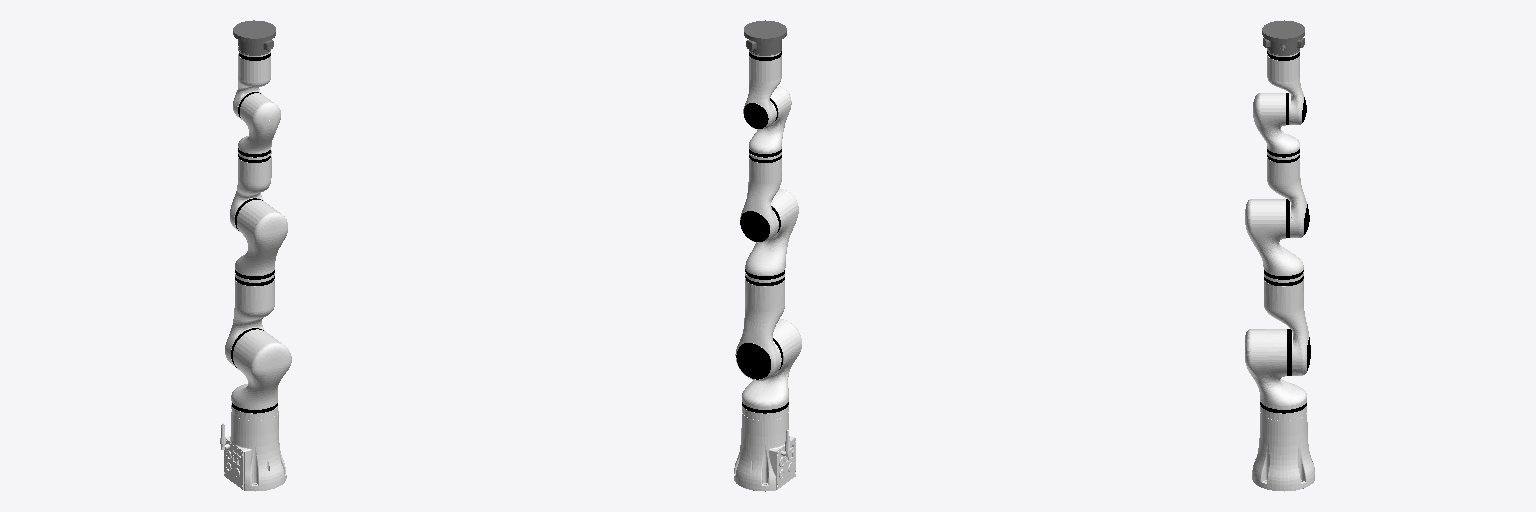
URDF robot description (RM75B_with_Gripper):
<?xml version='1.0' encoding='utf-8'?>
<robot name="RM75B_with_Gripper">

  <link name="base_link">
    <inertial>
      <origin xyz="0.00049987 5.2709E-05 0.060019" rpy="0 0 0" />
      <mass value="1.862" />
      <inertia ixx="0.0017232" ixy="-3.1058E-06" ixz="-3.7924E-05" iyy="0.0017051" iyz="1.3691E-06" izz="0.00090158" />
    </inertial>
    <visual>
      <geometry><mesh filename="../meshes/base_link.dae" /></geometry>
      <material name=""><color rgba="1 1 1 1" /></material>
    </visual>
    <collision>
      <geometry><mesh filename="../meshes/base_link.dae" /></geometry>
    </collision>
  </link>

  <link name="link_1">
    <inertial>
      <origin rpy="0 0 0" xyz="-0.002 0.02692 -0.01332"/>
      <mass value="2.16"/>
      <inertia ixx="0.00539427" ixy="1.095E-05" ixz="1.635E-06" iyy="0.0048979" iyz="0.000793" izz="0.00311573"/>
    </inertial>
    <visual><geometry><mesh filename="../meshes/link_1.dae" /></geometry></visual>
    <collision>
      <geometry><mesh filename="../meshes/link_1.dae" /></geometry>
    </collision>
  </link>
  <joint name="joint_1" type="revolute">
    <origin xyz="0 0 0.2405" rpy="0 0 0" />
    <parent link="base_link" /><child link="link_1" />
    <axis xyz="0 0 1" />
    <limit lower="-3.106" upper="3.106" effort="60" velocity="3.14" />
  </joint>

  <link name="link_2">
    <inertial>
      <origin rpy="0 0 0" xyz="0.03531 -0.21398 0.03386"/>
      <mass value="1.71"/>
      <inertia ixx="0.0248674" ixy="-0.00430651" ixz="-0.00067797" iyy="0.00485548" iyz="0.00457245" izz="0.02387827"/>
    </inertial>
    <visual><geometry><mesh filename="../meshes/link_2.dae" /></geometry></visual>
    <collision>
      <geometry><mesh filename="../meshes/link_2.dae" /></geometry>
    </collision>
  </link>
  <joint name="joint_2" type="revolute">
    <origin xyz="0 0 0" rpy="-1.5708 0 0" />
    <parent link="link_1" /><child link="link_2" />
    <axis xyz="0 0 1" />
    <limit lower="-2.2689" upper="2.2689" effort="60" velocity="3.14" />
  </joint>

  <link name="link_3">
    <inertial>
      <origin rpy="0 0 0" xyz="0.06781 0.10749 0.01457"/>
      <mass value="1.384"/>
      <inertia ixx="0.0053694" ixy="0.0014185" ixz="-0.00092094" iyy="0.0032423" iyz="-0.00169178" izz="0.00501731"/>
    </inertial>
    <visual><geometry><mesh filename="../meshes/link_3.dae" /></geometry></visual>
    <collision>
      <geometry><mesh filename="../meshes/link_3.dae" /></geometry>
    </collision>
  </link>
  <joint name="joint_3" type="revolute">
    <origin xyz="0 -0.1525 0" rpy="1.5708 0 0" />
    <parent link="link_2" /><child link="link_3" />
    <axis xyz="0 0 1" />
    <limit lower="-3.106" upper="3.106" effort="30" velocity="3.14" />
  </joint>

  <link name="link_4">
    <inertial>
      <origin rpy="0 0 0" xyz="-0.00021 0.02578 -0.02538"/>
      <mass value="1.115"/>
      <inertia ixx="0.00439263" ixy="5.028E-05" ixz="1.374E-05" iyy="0.0040077" iyz="0.00045338" izz="0.00110321"/>
    </inertial>
    <visual><geometry><mesh filename="../meshes/link_4.dae" /></geometry></visual>
    <collision>
      <geometry><mesh filename="../meshes/link_4.dae" /></geometry>
    </collision>
  </link>
  <joint name="joint_4" type="revolute">
    <origin xyz="0 0 0.1035" rpy="-1.5708 0 0" />
    <parent link="link_3" /><child link="link_4" />
    <axis xyz="0 0 1" />
    <limit lower="-2.356" upper="2.356" effort="30" velocity="3.14" />
  </joint>

  <link name="link_5">
    <inertial>
      <origin rpy="0 0 0" xyz="0.05428 0.01781 0.00543"/>
      <mass value="1.275"/>
      <inertia ixx="0.001202758" ixy="0.000492428" ixz="-0.00039147" iyy="0.0022876" iyz="-1.235E-04" izz="0.0026866"/>
    </inertial>
    <visual><geometry><mesh filename="../meshes/link_5.dae" /></geometry></visual>
    <collision>
      <geometry><mesh filename="../meshes/link_5.dae" /></geometry>
    </collision>
  </link>
  <joint name="joint_5" type="revolute">
    <origin xyz="0 -0.21 0" rpy="1.5708 0 0" />
    <parent link="link_4" /><child link="link_5" />
    <axis xyz="0 0 1" />
    <limit lower="-3.106" upper="3.106" effort="10" velocity="3.14" />
  </joint>

  <link name="link_6">
    <inertial>
      <origin rpy="0 0 0" xyz="0 0.00064 -0.00952"/>
      <mass value="0.1096"/>
      <inertia ixx="4.5293E-05" ixy="0" ixz="0" iyy="4.8111E-05" iyz="0" izz="7.9715E-05"/>
    </inertial>
    <visual><geometry><mesh filename="../meshes/link_6.dae" /></geometry></visual>
    <collision>
      <geometry><mesh filename="../meshes/link_6.dae" /></geometry>
    </collision>
  </link>
  <joint name="joint_6" type="revolute">
    <origin xyz="0 0 0" rpy="-1.5708 0 0" />
    <parent link="link_5" /><child link="link_6" />
    <axis xyz="0 0 1" />
    <limit lower="-2.234" upper="2.234" effort="10" velocity="3.14" />
  </joint>

  <link name="link_7">
    <inertial>
      <origin xyz="0.001094 -0.000077 -0.010119" rpy="0 0 0" />
      <mass value="0.107" />
      <inertia ixx="0.000044123" ixy="-0.000000064" ixz="0.0000003" iyy="0.000035078" iyz="-0.000000029" izz="0.000065445" />
    </inertial>
    <visual>
      <geometry><mesh filename="../meshes/link_7.dae" /></geometry>
    <material name="arm_gray"><color rgba="0.5137254901960784 0.5137254901960784 0.5137254901960784 1" /></material></visual>
    <collision>
      <geometry><mesh filename="../meshes/link_7.dae" /></geometry>
    </collision>
  </link>
  <joint name="joint_7" type="revolute">
    <origin xyz="0 -0.144 0" rpy="1.5708 0 0" />
    <parent link="link_6" /><child link="link_7" />
    <axis xyz="0 0 1" />
    <limit lower="-6.28" upper="6.28" effort="10" velocity="3.14" />
  </joint>

  <link name="gripper_base">
    <inertial>
      <origin rpy="0 0 0" xyz="0 0 0"/>
      <mass value="0.01"/>
      <inertia ixx="1E-06" ixy="0" ixz="0" iyy="1E-06" iyz="0" izz="1E-06"/>
    </inertial>
  </link>

  <link name="gripper_base_link">
    <inertial>
      <origin rpy="0 0 0" xyz="8.625E-08 -4.6583E-06 0.03145"/>
      <mass value="0.49834"/>
      <inertia ixx="0.00044011" ixy="-9.3372E-10" ixz="-6.3952E-10" iyy="0.00039230" iyz="-7.5684E-08" izz="0.00029652"/>
    </inertial>
    <visual>
      <geometry><mesh filename="../../crt_ctag2f90d_gripper_visualization/meshes/base_link.STL" /></geometry>
      <material name=""><color rgba="0.11764705882352941 0.11764705882352941 0.11764705882352941 1" /></material>
    </visual>
    <collision>
      <geometry><mesh filename="../../crt_ctag2f90d_gripper_visualization/meshes/base_link.STL" /></geometry>
    </collision>
  </link>

  <joint name="gripper_base_link_Joint" type="fixed">
    <origin xyz="0 0 0" rpy="0 0 0" />
    <parent link="gripper_base" />
    <child link="gripper_base_link" />
  </joint>

  <link name="gripper_Left_1_Link">
    <inertial>
      <origin rpy="0 0 0" xyz="-0.0002 0.01994 0.02922"/>
      <mass value="0.2877"/>
      <inertia ixx="6.3646E-06" ixy="0" ixz="0" iyy="4.1074E-06" iyz="-2.6818E-06" izz="2.6818E-06"/>
    </inertial>
    <visual><geometry><mesh filename="../../crt_ctag2f90d_gripper_visualization/meshes/Left_1_Link.STL" /></geometry><material name="gripper_black"><color rgba="0.11764705882352941 0.11764705882352941 0.11764705882352941 1" /></material></visual>
    <collision>
      <geometry><mesh filename="../../crt_ctag2f90d_gripper_visualization/meshes/Left_1_Link.STL" /></geometry>
    </collision>
  </link>
  <joint name="gripper_Left_1_Joint" type="revolute">
    <origin xyz="0.030141 0 0.10415" rpy="1.5708 0 0" />
    <parent link="gripper_base_link" /><child link="gripper_Left_1_Link" />
    <axis xyz="0 0 1" />
    <limit lower="0" upper="0.91" effort="10" velocity="10" />
  </joint>

  <link name="gripper_Left_Support_Link">
    <inertial>
      <origin rpy="0 0 0" xyz="0.0003 0.03739 -0.0208"/>
      <mass value="0.6974"/>
      <inertia ixx="3.355E-05" ixy="0" ixz="0" iyy="1.3589E-05" iyz="1.4929E-05" izz="2.563E-05"/>
    </inertial>
    <visual><geometry><mesh filename="../../crt_ctag2f90d_gripper_visualization/meshes/Left_Support_Link.STL" /></geometry><material name="gripper_black"><color rgba="0.11764705882352941 0.11764705882352941 0.11764705882352941 1" /></material></visual>
    <collision>
      <geometry><mesh filename="../../crt_ctag2f90d_gripper_visualization/meshes/Left_Support_Link.STL" /></geometry>
    </collision>
  </link>
  <joint name="gripper_Left_Support_Joint" type="revolute">
    <origin xyz="0.040359 0.037365 0" rpy="0 0 0" />
    <parent link="gripper_Left_1_Link" /><child link="gripper_Left_Support_Link" />
    <axis xyz="0 0 -1" />
    <limit lower="0" upper="0.91" effort="10" velocity="10" />
  </joint>

  <link name="gripper_Left_2_Link">
    <inertial>
      <origin rpy="0 0 0" xyz="0.000123 0.05079 0.00104"/>
      <mass value="0.25966"/>
      <inertia ixx="5.7618E-05" ixy="-5.3592E-07" ixz="-1.4032E-08" iyy="6.2194E-06" iyz="-1.1818E-06" izz="6.2414E-05"/>
    </inertial>
    <visual><geometry><mesh filename="../../crt_ctag2f90d_gripper_visualization/meshes/Left_2_Link.STL" /></geometry><material name="gripper_black"><color rgba="0.11764705882352941 0.11764705882352941 0.11764705882352941 1" /></material></visual>
    <collision>
      <geometry><mesh filename="../../crt_ctag2f90d_gripper_visualization/meshes/Left_2_Link.STL" /></geometry>
    </collision>
  </link>
  <joint name="gripper_Left_2_Joint" type="revolute">
    <origin xyz="0.016 0 0.121" rpy="1.5708 0 0" />
    <parent link="gripper_base_link" /><child link="gripper_Left_2_Link" />
    <axis xyz="0 0 1" />
    <limit lower="0" upper="0.91" effort="10" velocity="10" />
  </joint>

  <link name="gripper_Right_1_Link">
    <inertial>
      <origin rpy="0 0 0" xyz="-0.0002 0.01994 0.02922"/>
      <mass value="0.2877"/>
      <inertia ixx="6.3646E-06" ixy="0" ixz="0" iyy="4.1074E-06" iyz="-2.6818E-06" izz="2.6818E-06"/>
    </inertial>
    <visual><geometry><mesh filename="../../crt_ctag2f90d_gripper_visualization/meshes/Right_1_Link.STL" /></geometry><material name="gripper_black"><color rgba="0.11764705882352941 0.11764705882352941 0.11764705882352941 1" /></material></visual>
    <collision>
      <geometry><mesh filename="../../crt_ctag2f90d_gripper_visualization/meshes/Right_1_Link.STL" /></geometry>
    </collision>
  </link>
  <joint name="gripper_Right_1_Joint" type="revolute">
    <origin xyz="-0.030141 0 0.10415" rpy="1.5708 0 3.1416" />
    <parent link="gripper_base_link" /><child link="gripper_Right_1_Link" />
    <axis xyz="0 0 1" />
    <limit lower="0" upper="0.91" effort="10" velocity="10" />
  </joint>

  <link name="gripper_Right_Support_Link">
    <inertial>
      <origin rpy="0 0 0" xyz="0.0003 0.03739 -0.0208"/>
      <mass value="0.6974"/>
      <inertia ixx="3.355E-05" ixy="0" ixz="0" iyy="1.3589E-05" iyz="1.4929E-05" izz="2.563E-05"/>
    </inertial>
    <visual><geometry><mesh filename="../../crt_ctag2f90d_gripper_visualization/meshes/Right_Support_Link.STL" /></geometry><material name="gripper_black"><color rgba="0.11764705882352941 0.11764705882352941 0.11764705882352941 1" /></material></visual>
    <collision>
      <geometry><mesh filename="../../crt_ctag2f90d_gripper_visualization/meshes/Right_Support_Link.STL" /></geometry>
    </collision>
  </link>
  <joint name="gripper_Right_Support_Joint" type="revolute">
    <origin xyz="0.040359 0.037365 0" rpy="0 0 0" />
    <parent link="gripper_Right_1_Link" /><child link="gripper_Right_Support_Link" />
    <axis xyz="0 0 -1" />
    <limit lower="0" upper="0.91" effort="10" velocity="10" />
  </joint>

  <link name="gripper_Right_2_Link">
    <inertial>
      <origin rpy="0 0 0" xyz="0.000123 0.05079 0.00104"/>
      <mass value="0.25966"/>
      <inertia ixx="5.7618E-05" ixy="-5.3592E-07" ixz="-1.4032E-08" iyy="6.2194E-06" iyz="-1.1818E-06" izz="6.2414E-05"/>
    </inertial>
    <visual><geometry><mesh filename="../../crt_ctag2f90d_gripper_visualization/meshes/Right_2_Link.STL" /></geometry><material name="gripper_black"><color rgba="0.11764705882352941 0.11764705882352941 0.11764705882352941 1" /></material></visual>
    <collision>
      <geometry><mesh filename="../../crt_ctag2f90d_gripper_visualization/meshes/Right_2_Link.STL" /></geometry>
    </collision>
  </link>
  <joint name="gripper_Right_2_Joint" type="revolute">
    <origin xyz="-0.016 0 0.121" rpy="1.5708 0 3.1416" />
    <parent link="gripper_base_link" /><child link="gripper_Right_2_Link" />
    <axis xyz="0 0 1" />
    <limit lower="0" upper="0.91" effort="10" velocity="10" />
  </joint>

  <link name="left_pad">
    <inertial>
      <mass value="0" />
      <inertia ixx="0.00" ixy="0.00" ixz="0.00" iyy="0.00" iyz="0.00" izz="0.00" />
    </inertial>
  </link>
  <joint name="left_pad_joint" type="fixed">
    <parent link="gripper_Left_Support_Link" />
    <child link="left_pad" />
    <origin rpy="0 0 0" xyz="-0.02 0.055 0" />
  </joint>
  <link name="right_pad">
    <inertial>
      <mass value="0" />
      <inertia ixx="0.00" ixy="0.00" ixz="0.00" iyy="0.00" iyz="0.00" izz="0.00" />
    </inertial>
  </link>
  <joint name="right_pad_joint" type="fixed">
    <parent link="gripper_Right_Support_Link" />
    <child link="right_pad" />
    <origin rpy="0 0 0" xyz="-0.02 0.055 0" />
  </joint>

<link name="flange_spacer_8mm"><inertial><origin xyz="0 0 0.004000" rpy="0 0 0" /><mass value="0.050000" /><inertia ixx="1.55791666667e-05" ixy="0" ixz="0" iyy="1.55791666667e-05" iyz="0" izz="3.0625e-05" /></inertial><visual><origin xyz="0 0 0.004000" rpy="0 0 0" /><geometry><cylinder radius="0.037500" length="0.008000" /></geometry><material name="arm_gray"><color rgba="0.5137254901960784 0.5137254901960784 0.5137254901960784 1" /></material></visual><collision><origin xyz="0 0 0.004000" rpy="0 0 0" /><geometry><cylinder radius="0.037500" length="0.008000" /></geometry></collision></link><joint name="link7_to_flange_spacer_8mm" type="fixed"><origin xyz="0 0 0" rpy="0 0 0.5236" /><parent link="link_7" /><child link="flange_spacer_8mm" /></joint><joint name="flange_spacer_8mm_to_gripper_base" type="fixed"><origin xyz="0 0 0.008000" rpy="0 0 0" /><parent link="flange_spacer_8mm" /><child link="gripper_base" /></joint></robot>

--- What the picture shows (computed from the rendered views, not written in the file) ---
Views: 3 orthographic renders of the robot side by side, from view 1: azimuth 30°, elevation 25°; view 2: azimuth 150°, elevation 25°; view 3: azimuth 270°, elevation 25°.
Model RM75B_with_Gripper with 19 links and 18 joints (13 revolute, 5 fixed), rooted at base_link, posed all joints at 0.
Visible links, largest first — view 1: base_link, link_1, link_3, link_5, link_2, link_4, link_6, flange_spacer_8mm; view 2: base_link, link_2, link_4, link_1, link_3, link_6, link_5, flange_spacer_8mm; view 3: base_link, link_1, link_3, link_2, link_5, link_4, link_6, flange_spacer_8mm.
Link boxes in pixels (x1,y1,x2,y2): base_link: [220, 407, 286, 491]; link_1: [230, 327, 291, 415]; link_3: [234, 198, 287, 280]; link_5: [237, 91, 280, 158]; link_2: [225, 275, 274, 365]; link_4: [230, 152, 271, 229]; link_6: [233, 50, 270, 119]; flange_spacer_8mm: [233, 20, 275, 42]; base_link: [734, 407, 795, 491]; link_2: [735, 274, 784, 380]; link_4: [740, 153, 781, 242]; link_1: [742, 319, 801, 415]; link_3: [745, 188, 798, 280]; link_6: [743, 51, 781, 129]; link_5: [749, 86, 791, 158]; flange_spacer_8mm: [744, 20, 786, 42]; base_link: [1252, 407, 1314, 491]; link_1: [1245, 329, 1306, 415]; link_3: [1245, 199, 1303, 280]; link_2: [1264, 274, 1310, 375]; link_5: [1253, 93, 1299, 158]; link_4: [1267, 153, 1309, 237]; link_6: [1267, 50, 1306, 124]; flange_spacer_8mm: [1262, 20, 1304, 42].
Size in the robot's own frame: 0.1143 by 0.123 by 0.8585 metres.
8 mesh visuals loaded from 15 distinct referenced files (8 Collada DAE); not drawn: 7 (reference not matched to a file when rendering).
